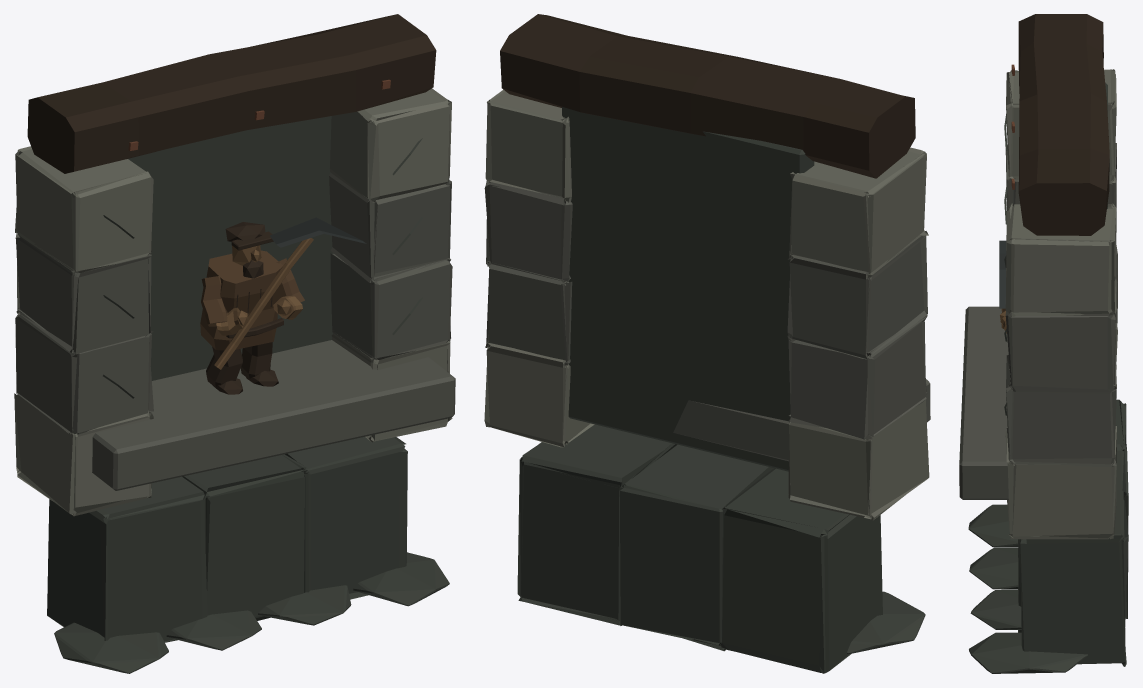
The model's file is shrine-base.glb.
The picture shows the model from 3 angles, left to right: view 1: azimuth 30°, elevation 25°; view 2: azimuth 150°, elevation 25°; view 3: azimuth 270°, elevation 25°; orthographic projection. The views are drawn at different scales.
Visible parts, largest first — view 1: Stone, Wood, Iron; view 2: Stone, Wood; view 3: Stone, Wood, Iron.
Part boxes in pixels (left/top/right/bottom): Stone: left=14, top=88, right=455, bottom=673; Wood: left=27, top=14, right=436, bottom=394; Iron: left=128, top=79, right=390, bottom=247; Stone: left=484, top=89, right=930, bottom=673; Wood: left=500, top=14, right=915, bottom=178; Stone: left=959, top=69, right=1128, bottom=673; Wood: left=1000, top=14, right=1109, bottom=333; Iron: left=999, top=64, right=1014, bottom=308.
Size of the model in its own units: 1.16 by 1.57 by 0.4775.
